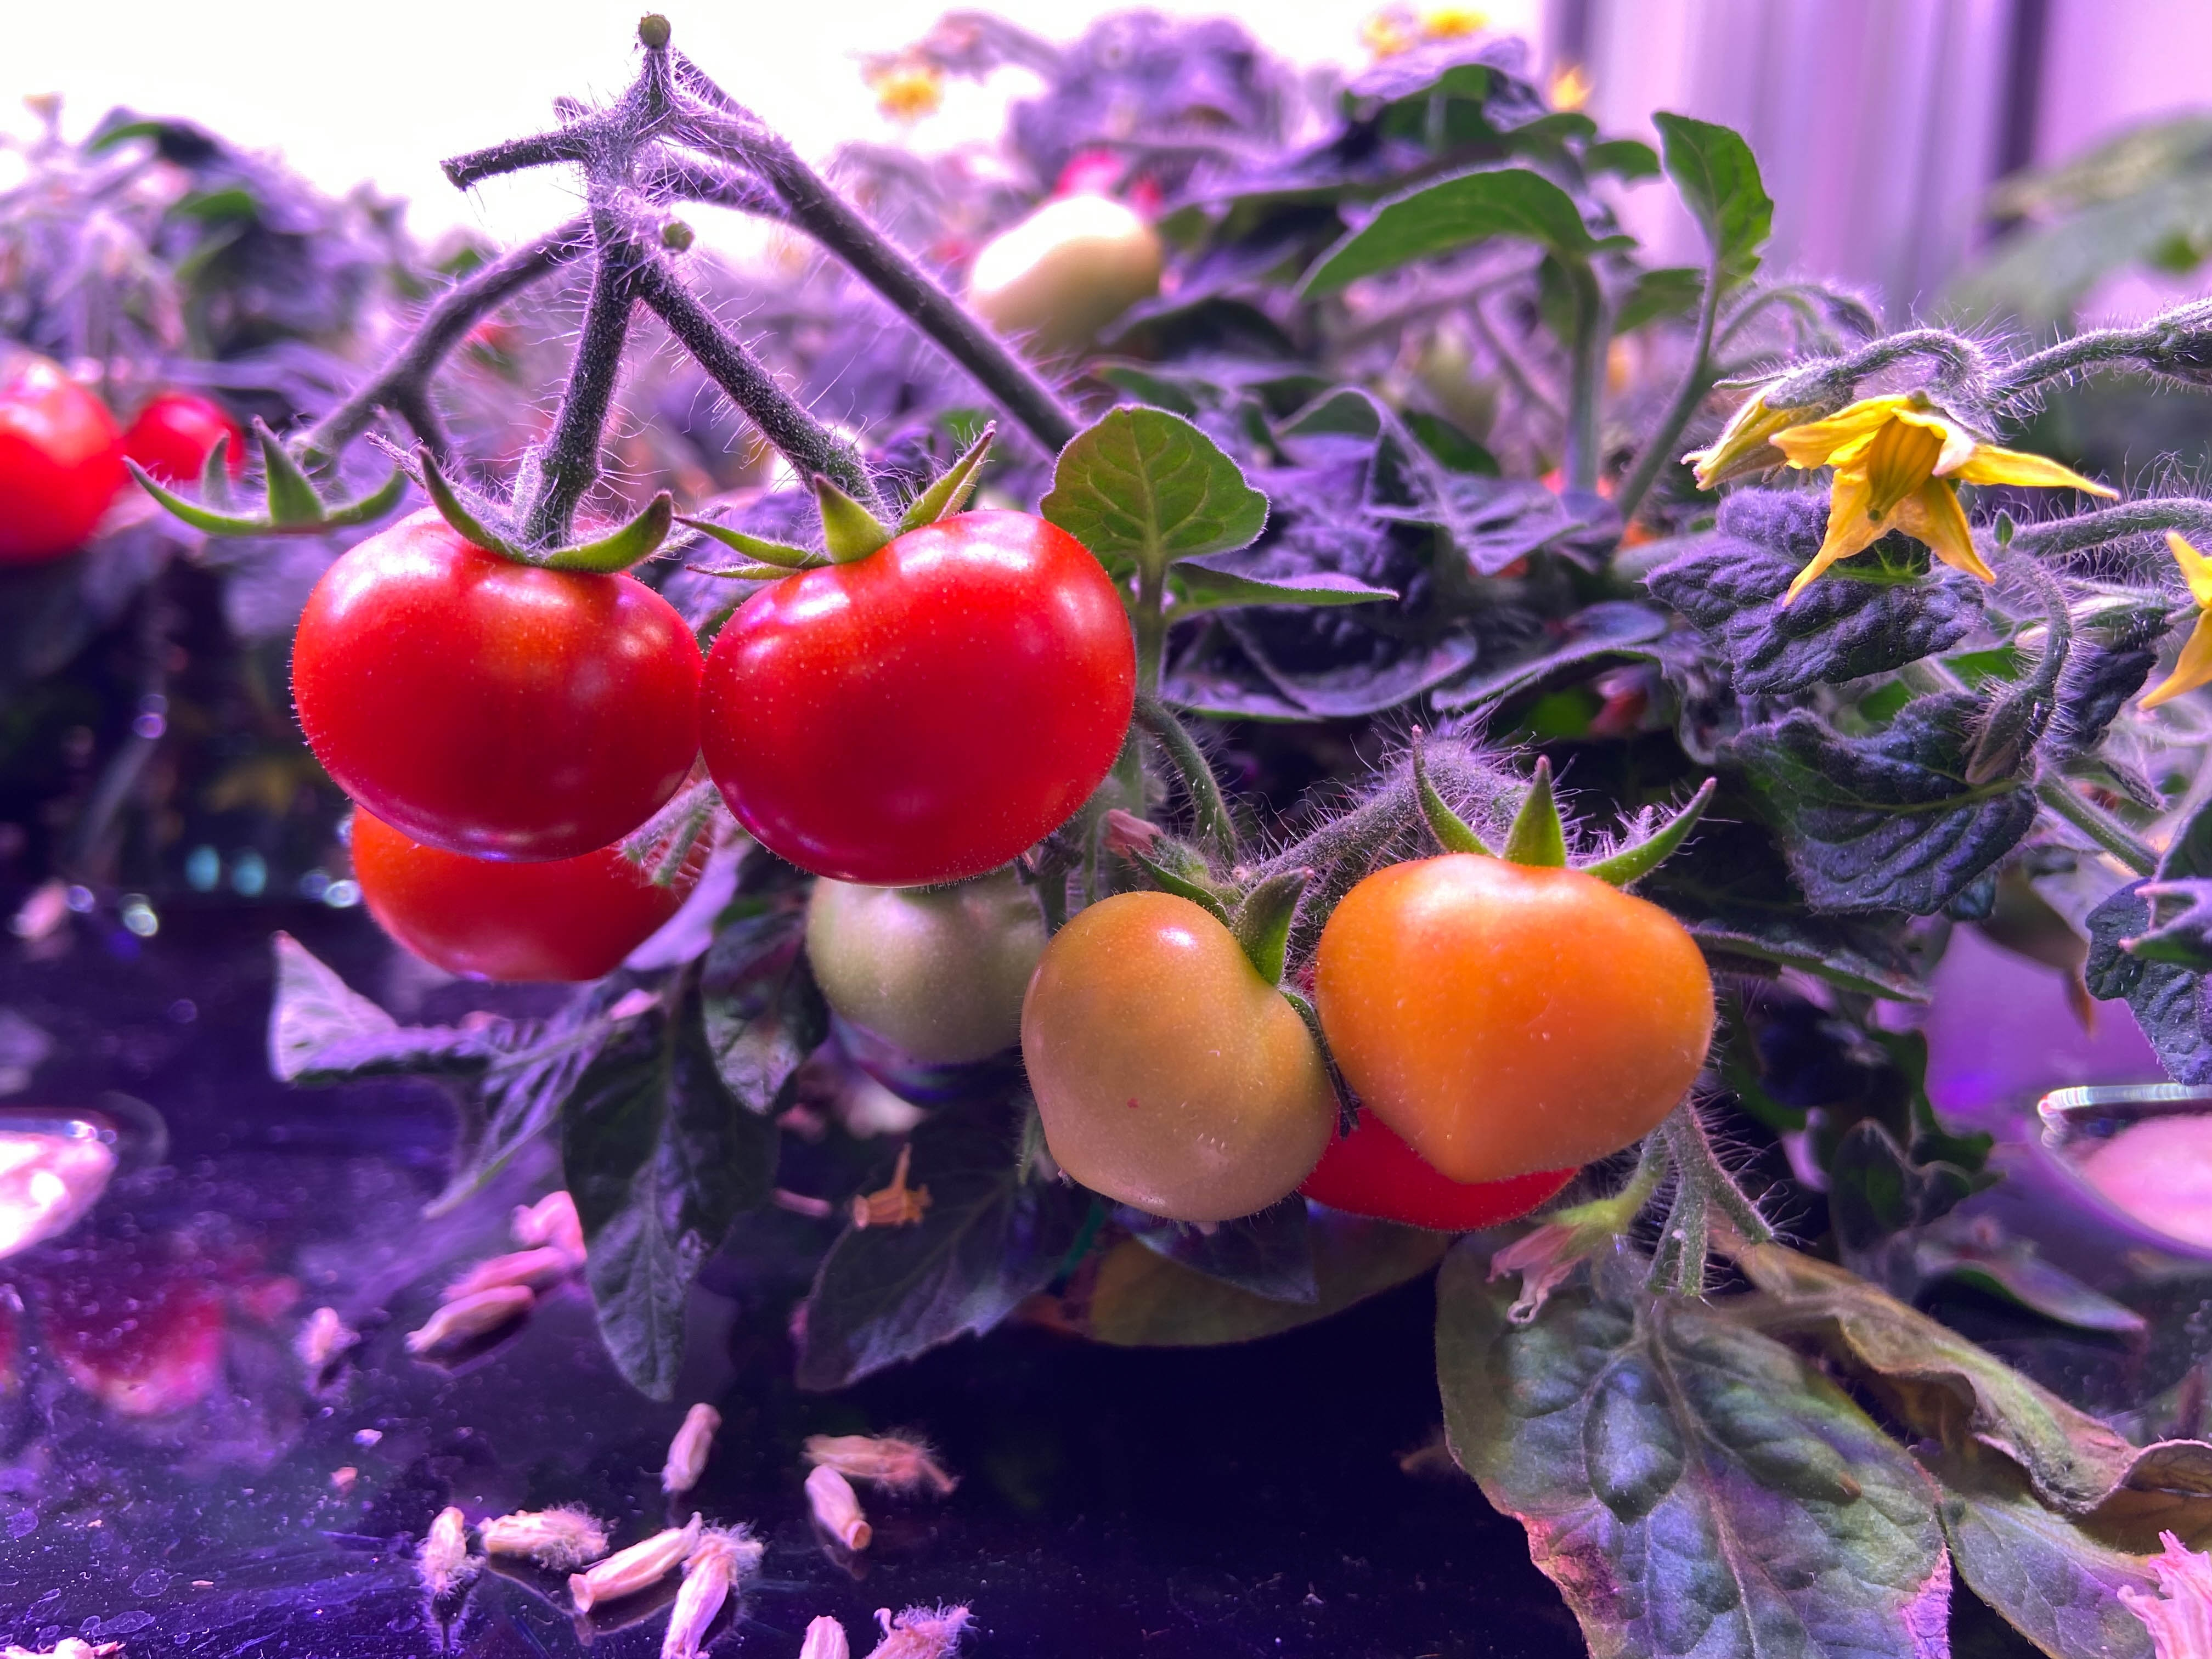green: (801, 850, 1069, 1063), (958, 197, 1179, 362)
red: (693, 498, 1139, 885), (284, 512, 712, 857), (1313, 845, 1714, 1195), (1017, 880, 1339, 1229), (341, 796, 712, 986), (1296, 1079, 1608, 1251), (0, 359, 134, 559), (110, 383, 237, 491), (1043, 136, 1169, 232)
